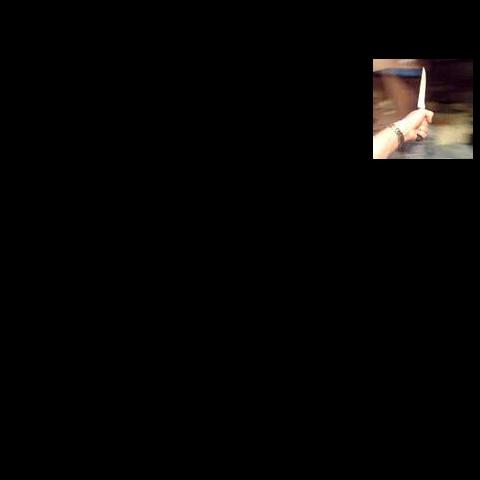knife: (414, 63, 427, 142)
